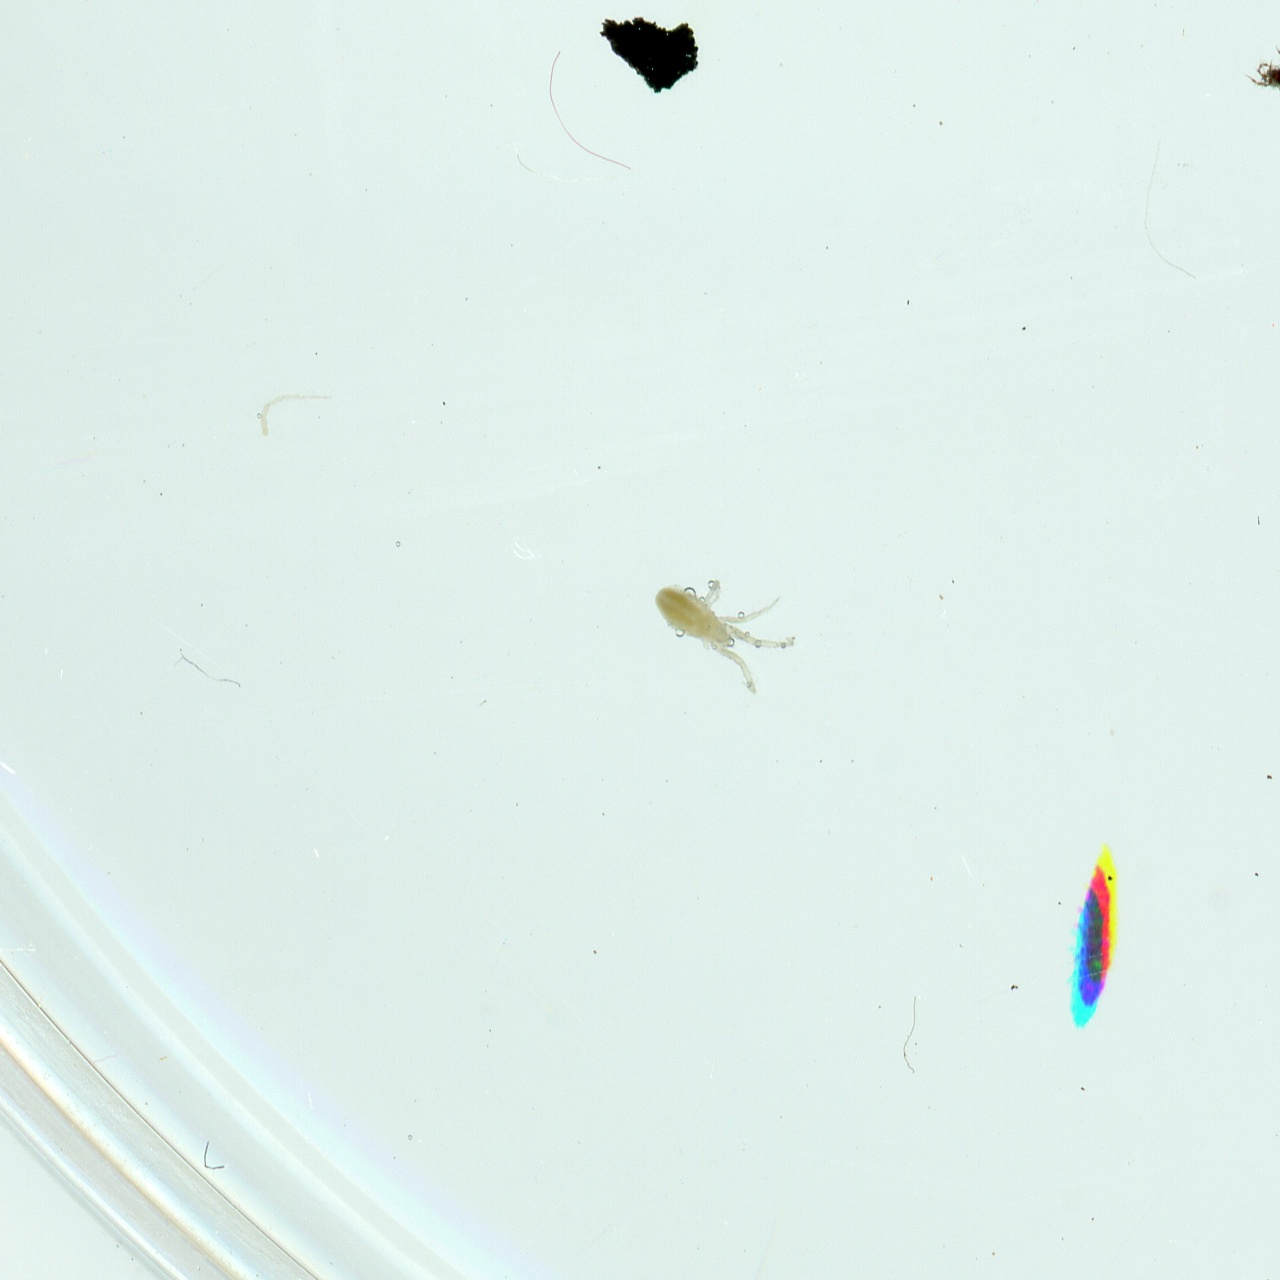arthropod: (641, 568, 808, 703), (1073, 838, 1123, 1036), (1240, 42, 1280, 100)
